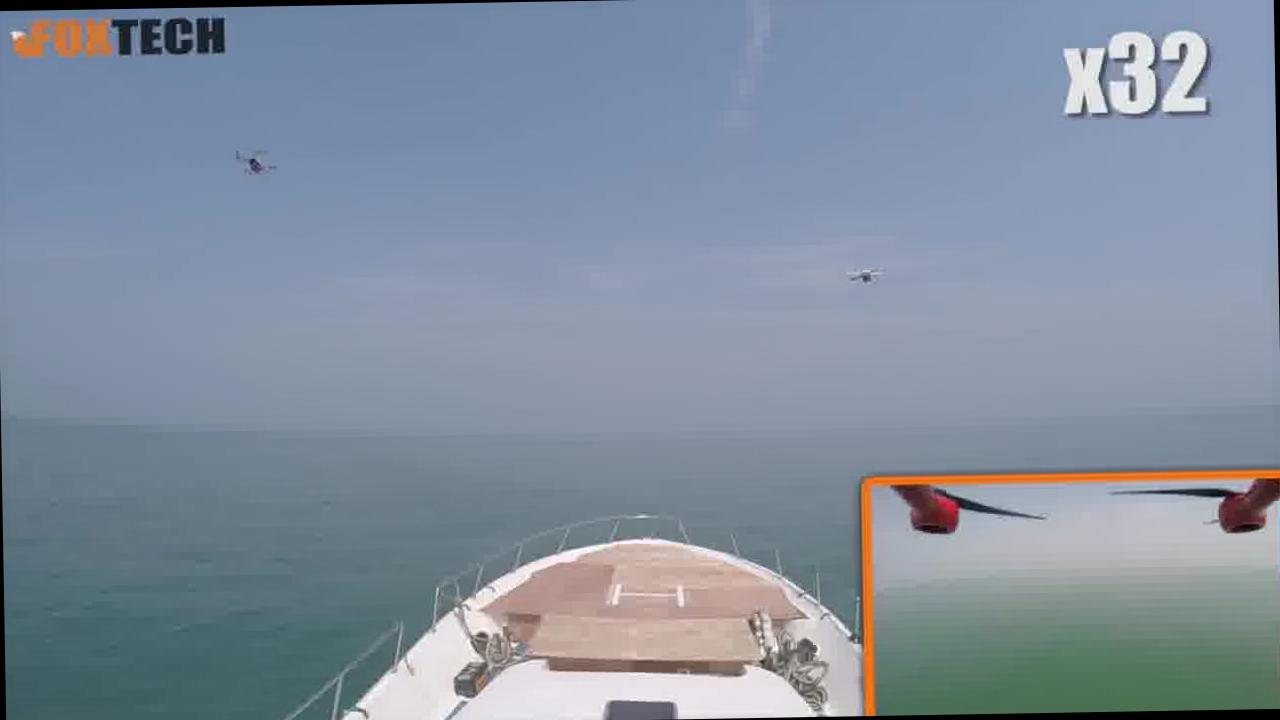drone: (223, 134, 292, 188), (838, 253, 896, 294)
